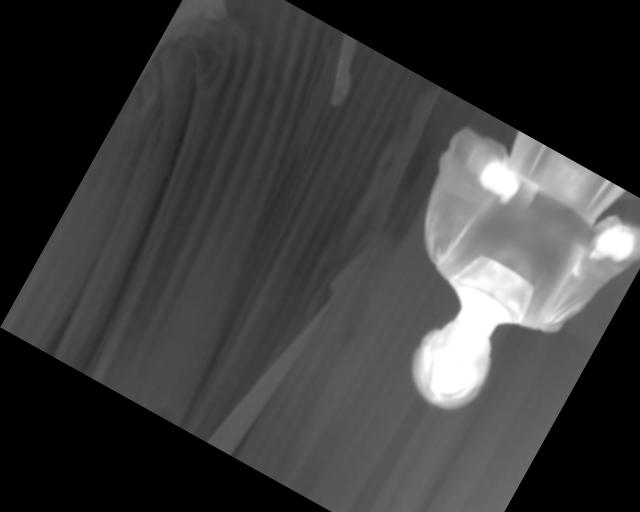face: (393, 302, 509, 423)
